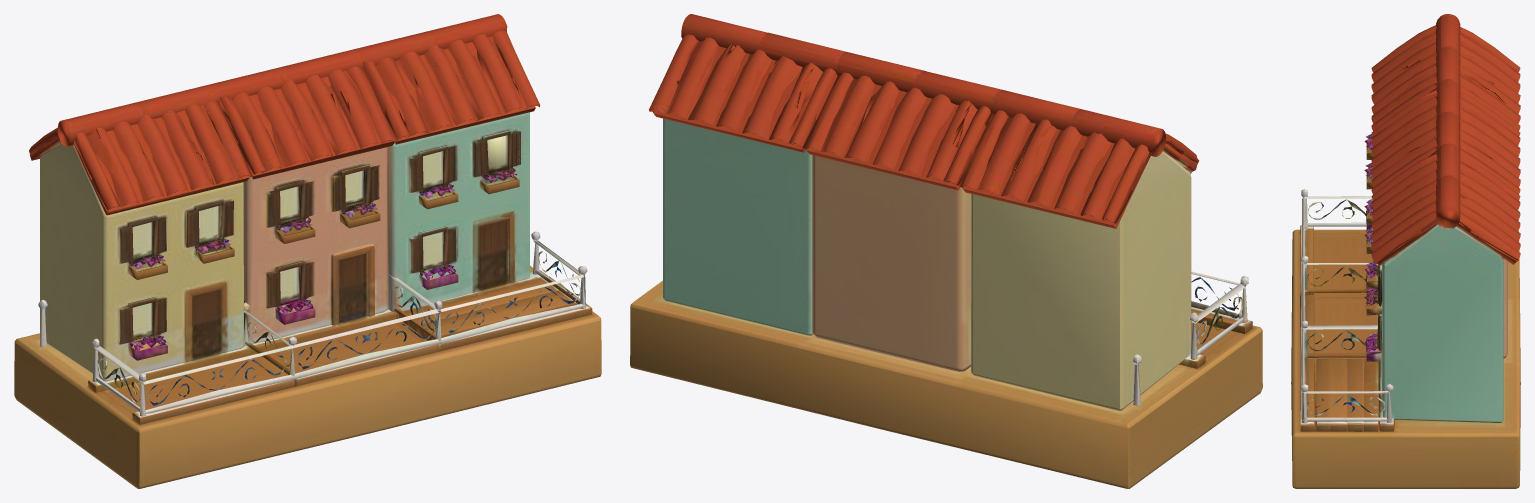
The model's file is pueblo_casas.glb.
3 views of the same model, side by side, from view 1: azimuth 30°, elevation 25°; view 2: azimuth 150°, elevation 25°; view 3: azimuth 270°, elevation 25° (orthographic). The views are drawn at different scales.
Visible parts, largest first — view 1: tripo_node_e007c978-8a9f-4856-9614-6f2bd2e80c9b; view 2: tripo_node_e007c978-8a9f-4856-9614-6f2bd2e80c9b; view 3: tripo_node_e007c978-8a9f-4856-9614-6f2bd2e80c9b.
Boxes of the visible parts, <box> form: tripo_node_e007c978-8a9f-4856-9614-6f2bd2e80c9b: <box>14,14,601,488</box>; tripo_node_e007c978-8a9f-4856-9614-6f2bd2e80c9b: <box>630,14,1262,488</box>; tripo_node_e007c978-8a9f-4856-9614-6f2bd2e80c9b: <box>1291,14,1520,488</box>.
Bounding box in the file's own units: 0.9995 × 0.6252 × 0.4712.
1 material, 1 textured.
